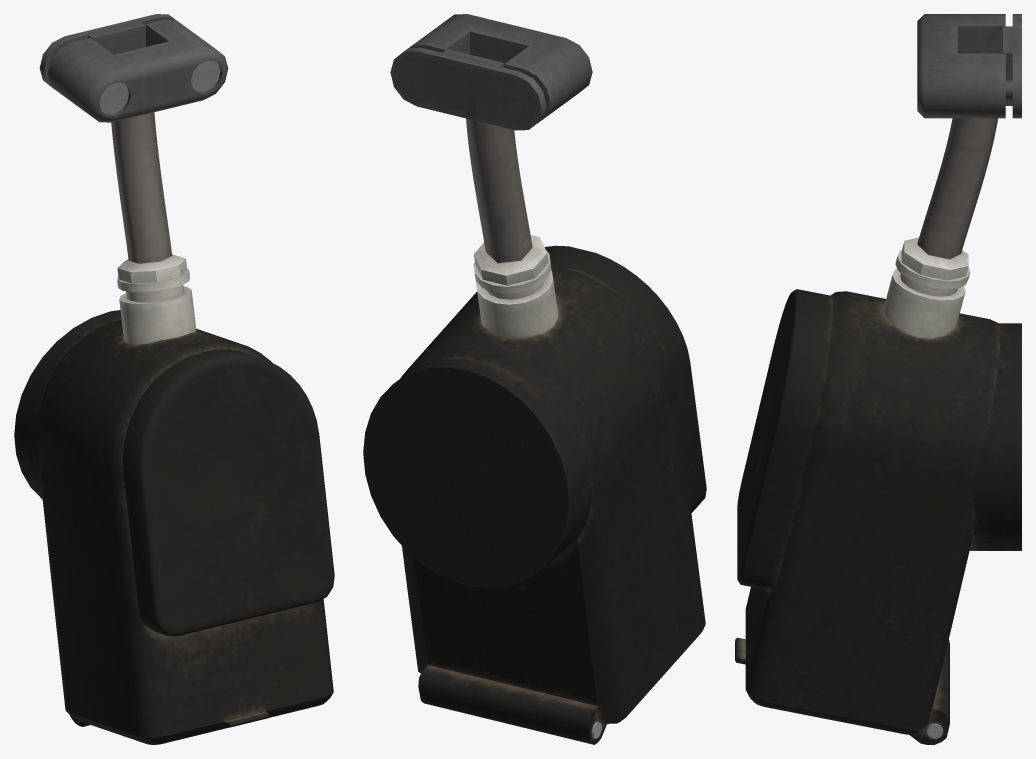
The model's file is cable_cable_plug_covered_2.fbx.
The picture shows the model from 3 angles, left to right: view 1: azimuth 30°, elevation 25°; view 2: azimuth 150°, elevation 25°; view 3: azimuth 270°, elevation 25°; orthographic projection. The views are drawn at different scales.
Visible parts, largest first — view 1: modular_electric_cables_boxes__cable_plug_covered_2; view 2: modular_electric_cables_boxes__cable_plug_covered_2; view 3: modular_electric_cables_boxes__cable_plug_covered_2.
Boxes of the visible parts, <box> form: modular_electric_cables_boxes__cable_plug_covered_2: <box>14,14,334,744</box>; modular_electric_cables_boxes__cable_plug_covered_2: <box>363,14,706,744</box>; modular_electric_cables_boxes__cable_plug_covered_2: <box>735,14,1021,744</box>.
Size of the model in its own units: 0.0567 by 0.1825 by 0.0712.
